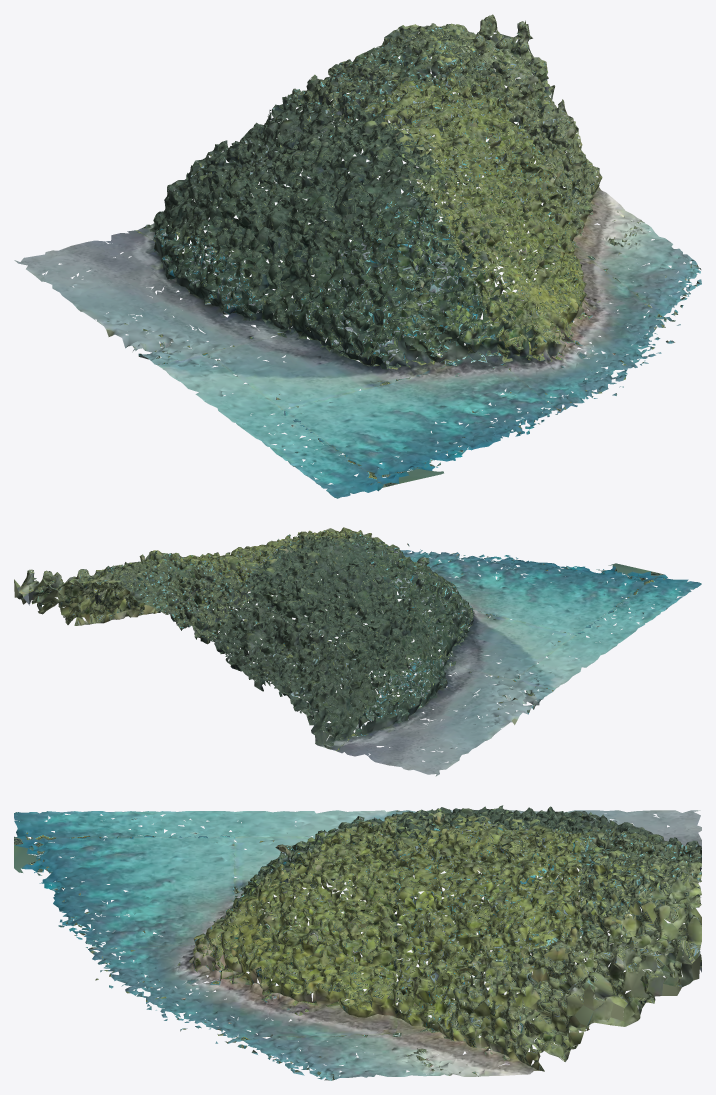
File: promontory.glb
The picture shows the model from 3 angles, top to bottom: view 1: azimuth 30°, elevation 25°; view 2: azimuth 150°, elevation 25°; view 3: azimuth 270°, elevation 25°; orthographic projection. The views are drawn at different scales.
Parts seen in each view (by area): view 1: Object_2; view 2: Object_2; view 3: Object_2.
Boxes of the visible parts, x1=… form: Object_2: x1=14, y1=14, x2=701, y2=498; Object_2: x1=14, y1=527, x2=701, y2=776; Object_2: x1=14, y1=805, x2=701, y2=1080.
Bounding box in the file's own units: 348 × 100 × 380.
1 material, 1 textured.
